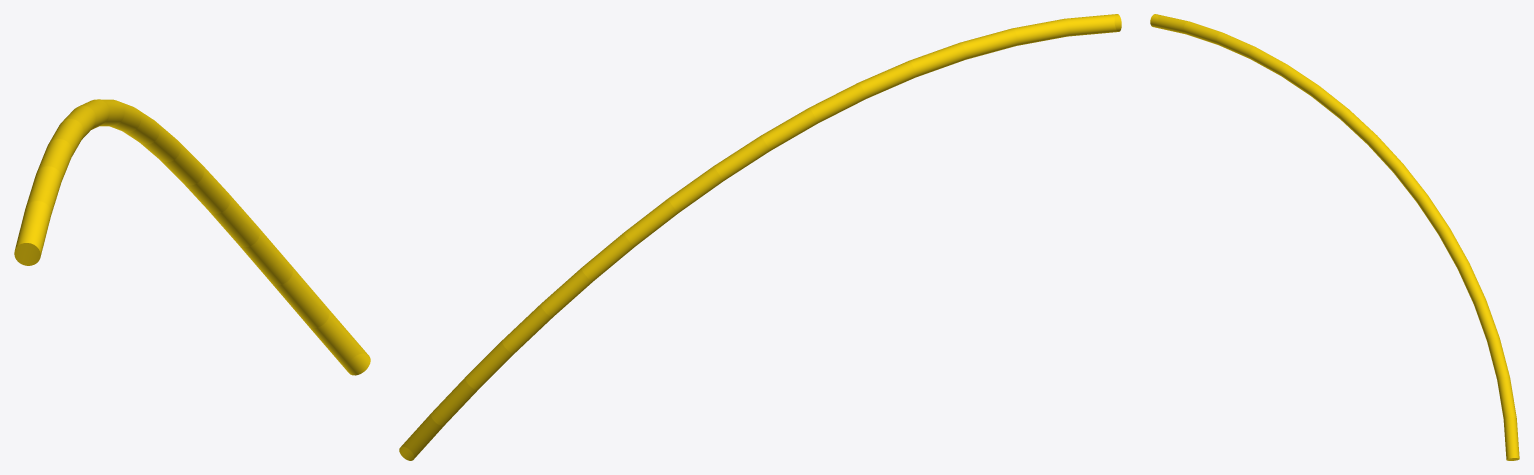
The model's file is Event_420604493_track_17.fbx.
3 views of the same model, side by side, from view 1: azimuth 30°, elevation 25°; view 2: azimuth 150°, elevation 25°; view 3: azimuth 270°, elevation 25° (orthographic). The views are drawn at different scales.
Visible parts, largest first — view 1: Model; view 2: Model; view 3: Model.
Part boxes in pixels (<box>): Model: <box>14,99,370,375</box>; Model: <box>399,14,1121,460</box>; Model: <box>1150,14,1519,460</box>.
Size of the model in its own units: 1.22 by 0.9363 by 1.11.
